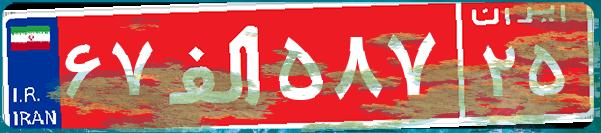2: (475, 38, 525, 113)
5: (273, 28, 330, 110), (525, 38, 570, 115)
6: (57, 26, 110, 107)
7: (385, 28, 445, 110), (110, 28, 158, 105)
8: (330, 28, 385, 110)
الف: (158, 15, 273, 115)
